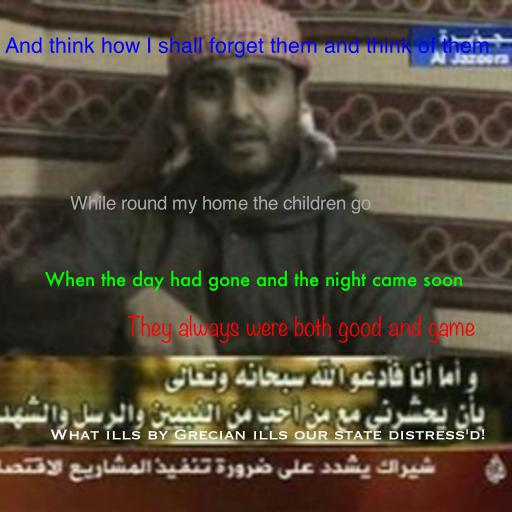Big Caslon: (69, 196, 371, 214)
Copperplate: (50, 429, 486, 440)
Futura: (45, 270, 463, 291)
Impact: (4, 37, 490, 58)
Noteworthy: (127, 315, 475, 344)
